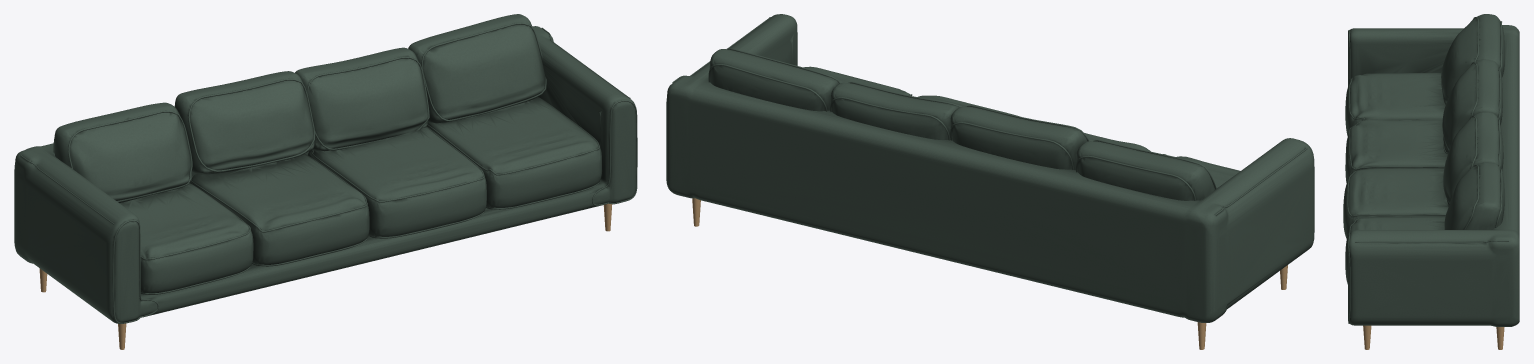
File: pana-bosque.gltf
3 renders of one model, left to right at view 1: azimuth 30°, elevation 25°; view 2: azimuth 150°, elevation 25°; view 3: azimuth 270°, elevation 25°, orthographic. The views are drawn at different scales.
Visible parts, largest first — view 1: tela_ar, madera_ar; view 2: tela_ar, madera_ar; view 3: tela_ar, madera_ar.
Part boxes in pixels (box(x1,y1,x2,y2)): tela_ar: box(14, 14, 637, 323); madera_ar: box(39, 203, 612, 349); tela_ar: box(666, 14, 1314, 322); madera_ar: box(692, 198, 1287, 349); tela_ar: box(1343, 14, 1519, 326); madera_ar: box(1363, 325, 1504, 349).
Size of the model in its own units: 2.7 by 0.8297 by 0.9224.
2 materials, 2 textured.
